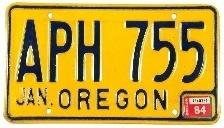5: (179, 19, 208, 83), (151, 19, 179, 84)
7: (124, 19, 150, 86)
A: (16, 18, 45, 84)
H: (75, 19, 104, 83)
P: (47, 20, 73, 84)
